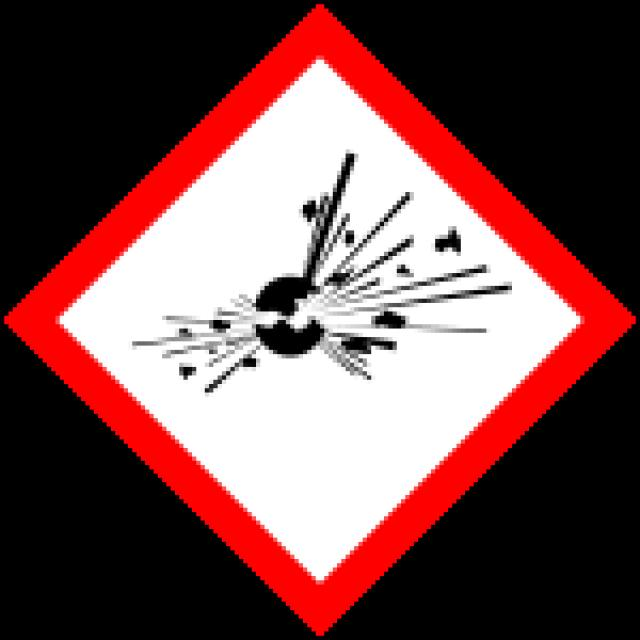GHS01- Explosive: (4, 4, 640, 640)
